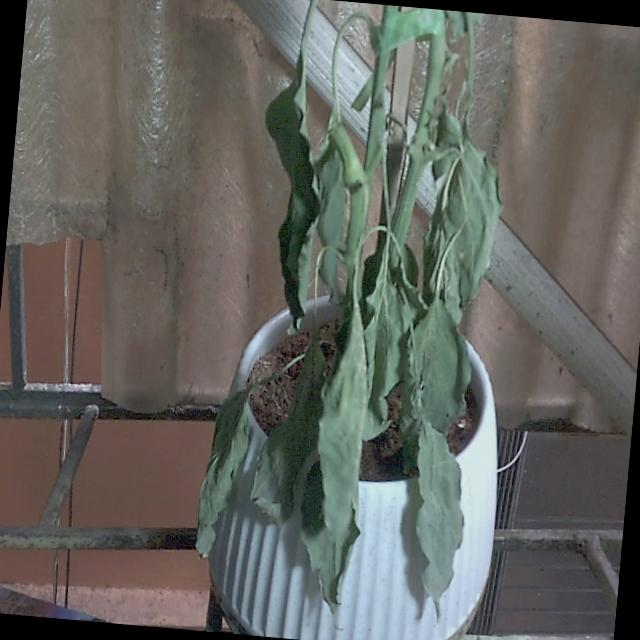Leaf: (244, 65, 331, 338), (303, 290, 376, 550), (402, 411, 474, 621), (192, 383, 252, 560)
